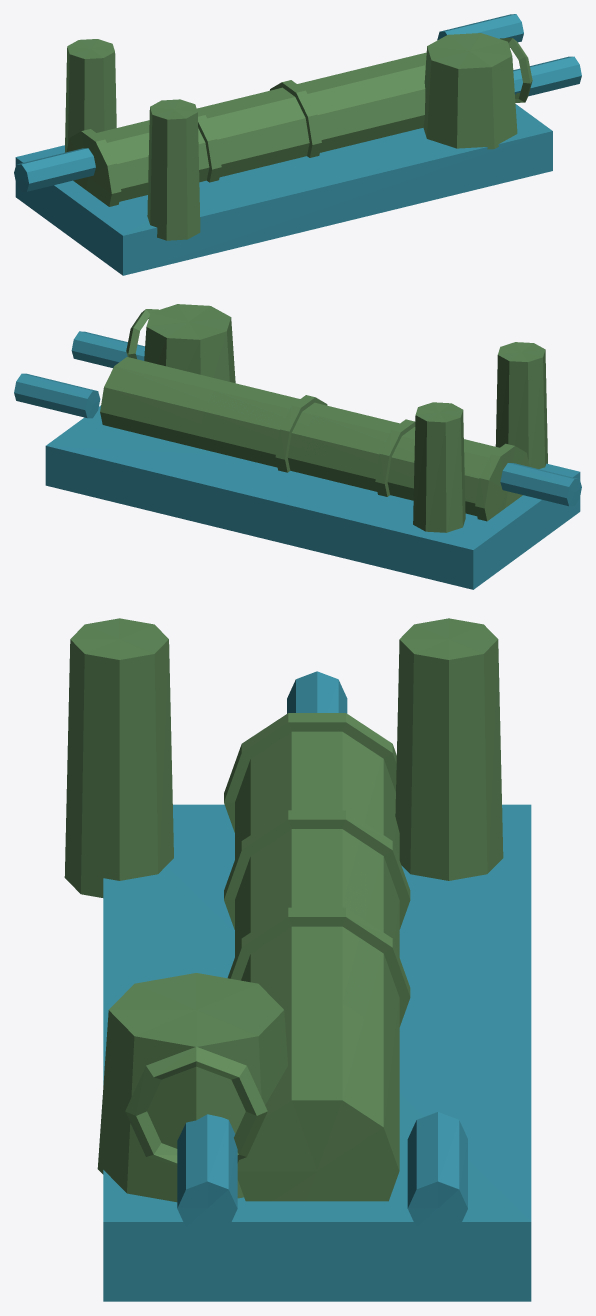
File: desalination-plant.source.glb
3 views of the same model, one above another, from view 1: azimuth 30°, elevation 25°; view 2: azimuth 150°, elevation 25°; view 3: azimuth 270°, elevation 25° (orthographic). The views are drawn at different scales.
Parts seen in each view (by area): view 1: desalination-plant-skid-mesh, desalination-plant-feed-pump-mesh, desalination-plant-pressure-vessel-1-mesh, desalination-plant-pressure-vessel-2-mesh, desalination-plant-filter-1-mesh, desalination-plant-pressure-vessel-3-mesh, desalination-plant-filter-2-mesh, desalination-plant-intake-pipe-mesh, desalination-plant-vessel-band-1-mesh, desalination-plant-clean-water-pipe-mesh, desalination-plant-brine-pipe-mesh, desalination-plant-vessel-band-3-mesh (+2 smaller); view 2: desalination-plant-skid-mesh, desalination-plant-pressure-vessel-3-mesh, desalination-plant-pressure-vessel-2-mesh, desalination-plant-pressure-vessel-1-mesh, desalination-plant-filter-2-mesh, desalination-plant-feed-pump-mesh, desalination-plant-filter-1-mesh, desalination-plant-brine-pipe-mesh, desalination-plant-intake-pipe-mesh, desalination-plant-vessel-band-1-mesh, desalination-plant-clean-water-pipe-mesh, desalination-plant-vessel-band-3-mesh (+2 smaller); view 3: desalination-plant-skid-mesh, desalination-plant-pressure-vessel-3-mesh, desalination-plant-filter-1-mesh, desalination-plant-filter-2-mesh, desalination-plant-feed-pump-mesh, desalination-plant-pressure-vessel-1-mesh, desalination-plant-pressure-vessel-2-mesh, desalination-plant-brine-pipe-mesh, desalination-plant-clean-water-pipe-mesh, desalination-plant-valve-wheel-mesh, desalination-plant-vessel-band-2-mesh, desalination-plant-vessel-band-3-mesh (+2 smaller).
Part boxes in pixels (<box>): desalination-plant-skid-mesh: <box>15,104,552,275</box>; desalination-plant-feed-pump-mesh: <box>423,33,517,149</box>; desalination-plant-pressure-vessel-1-mesh: <box>97,90,297,201</box>; desalination-plant-pressure-vessel-2-mesh: <box>197,66,397,171</box>; desalination-plant-filter-1-mesh: <box>147,99,200,240</box>; desalination-plant-pressure-vessel-3-mesh: <box>300,52,426,140</box>; desalination-plant-filter-2-mesh: <box>65,39,116,152</box>; desalination-plant-intake-pipe-mesh: <box>14,148,95,191</box>; desalination-plant-vessel-band-1-mesh: <box>66,129,121,206</box>; desalination-plant-clean-water-pipe-mesh: <box>513,56,581,96</box>; desalination-plant-brine-pipe-mesh: <box>437,14,523,42</box>; desalination-plant-vessel-band-3-mesh: <box>269,80,321,157</box>; desalination-plant-skid-mesh: <box>45,405,580,589</box>; desalination-plant-pressure-vessel-3-mesh: <box>100,357,299,448</box>; desalination-plant-pressure-vessel-2-mesh: <box>200,381,388,483</box>; desalination-plant-pressure-vessel-1-mesh: <box>300,405,499,516</box>; desalination-plant-filter-2-mesh: <box>413,402,465,532</box>; desalination-plant-feed-pump-mesh: <box>144,304,235,383</box>; desalination-plant-filter-1-mesh: <box>495,342,547,468</box>; desalination-plant-brine-pipe-mesh: <box>14,373,100,418</box>; desalination-plant-intake-pipe-mesh: <box>500,463,581,506</box>; desalination-plant-vessel-band-1-mesh: <box>475,443,529,521</box>; desalination-plant-clean-water-pipe-mesh: <box>71,331,144,367</box>; desalination-plant-vessel-band-3-mesh: <box>275,395,327,472</box>; desalination-plant-skid-mesh: <box>103,804,531,1301</box>; desalination-plant-pressure-vessel-3-mesh: <box>237,926,399,1201</box>; desalination-plant-filter-1-mesh: <box>64,618,173,897</box>; desalination-plant-filter-2-mesh: <box>395,618,503,880</box>; desalination-plant-feed-pump-mesh: <box>97,973,287,1202</box>; desalination-plant-pressure-vessel-1-mesh: <box>235,731,399,957</box>; desalination-plant-pressure-vessel-2-mesh: <box>235,829,399,1073</box>; desalination-plant-brine-pipe-mesh: <box>407,1112,467,1235</box>; desalination-plant-clean-water-pipe-mesh: <box>177,1114,237,1235</box>; desalination-plant-valve-wheel-mesh: <box>125,1047,267,1168</box>; desalination-plant-vessel-band-2-mesh: <box>224,810,410,929</box>; desalination-plant-vessel-band-3-mesh: <box>227,907,410,1026</box>.
Bounding box in the file's own units: 2.2 × 0.6 × 0.85.
